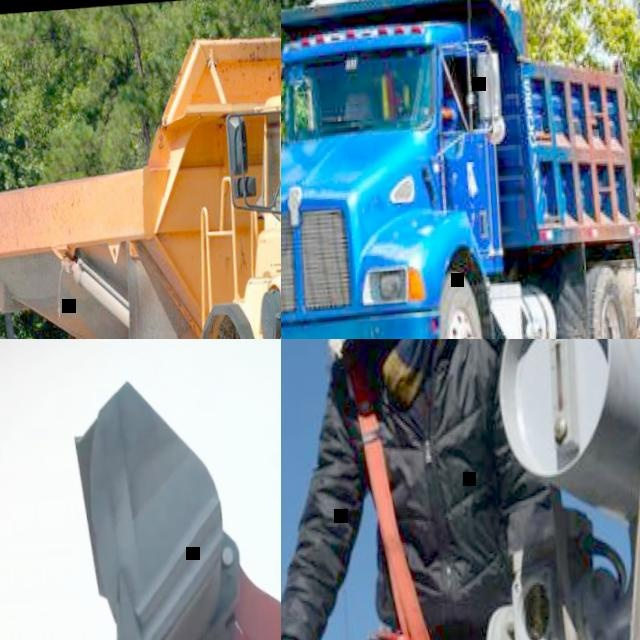Mask: (358, 339, 412, 357)
NO-Safety Vest: (364, 339, 517, 640)
Person: (281, 339, 583, 640)
machinery: (281, 0, 640, 339), (0, 7, 281, 339), (62, 339, 281, 640)
